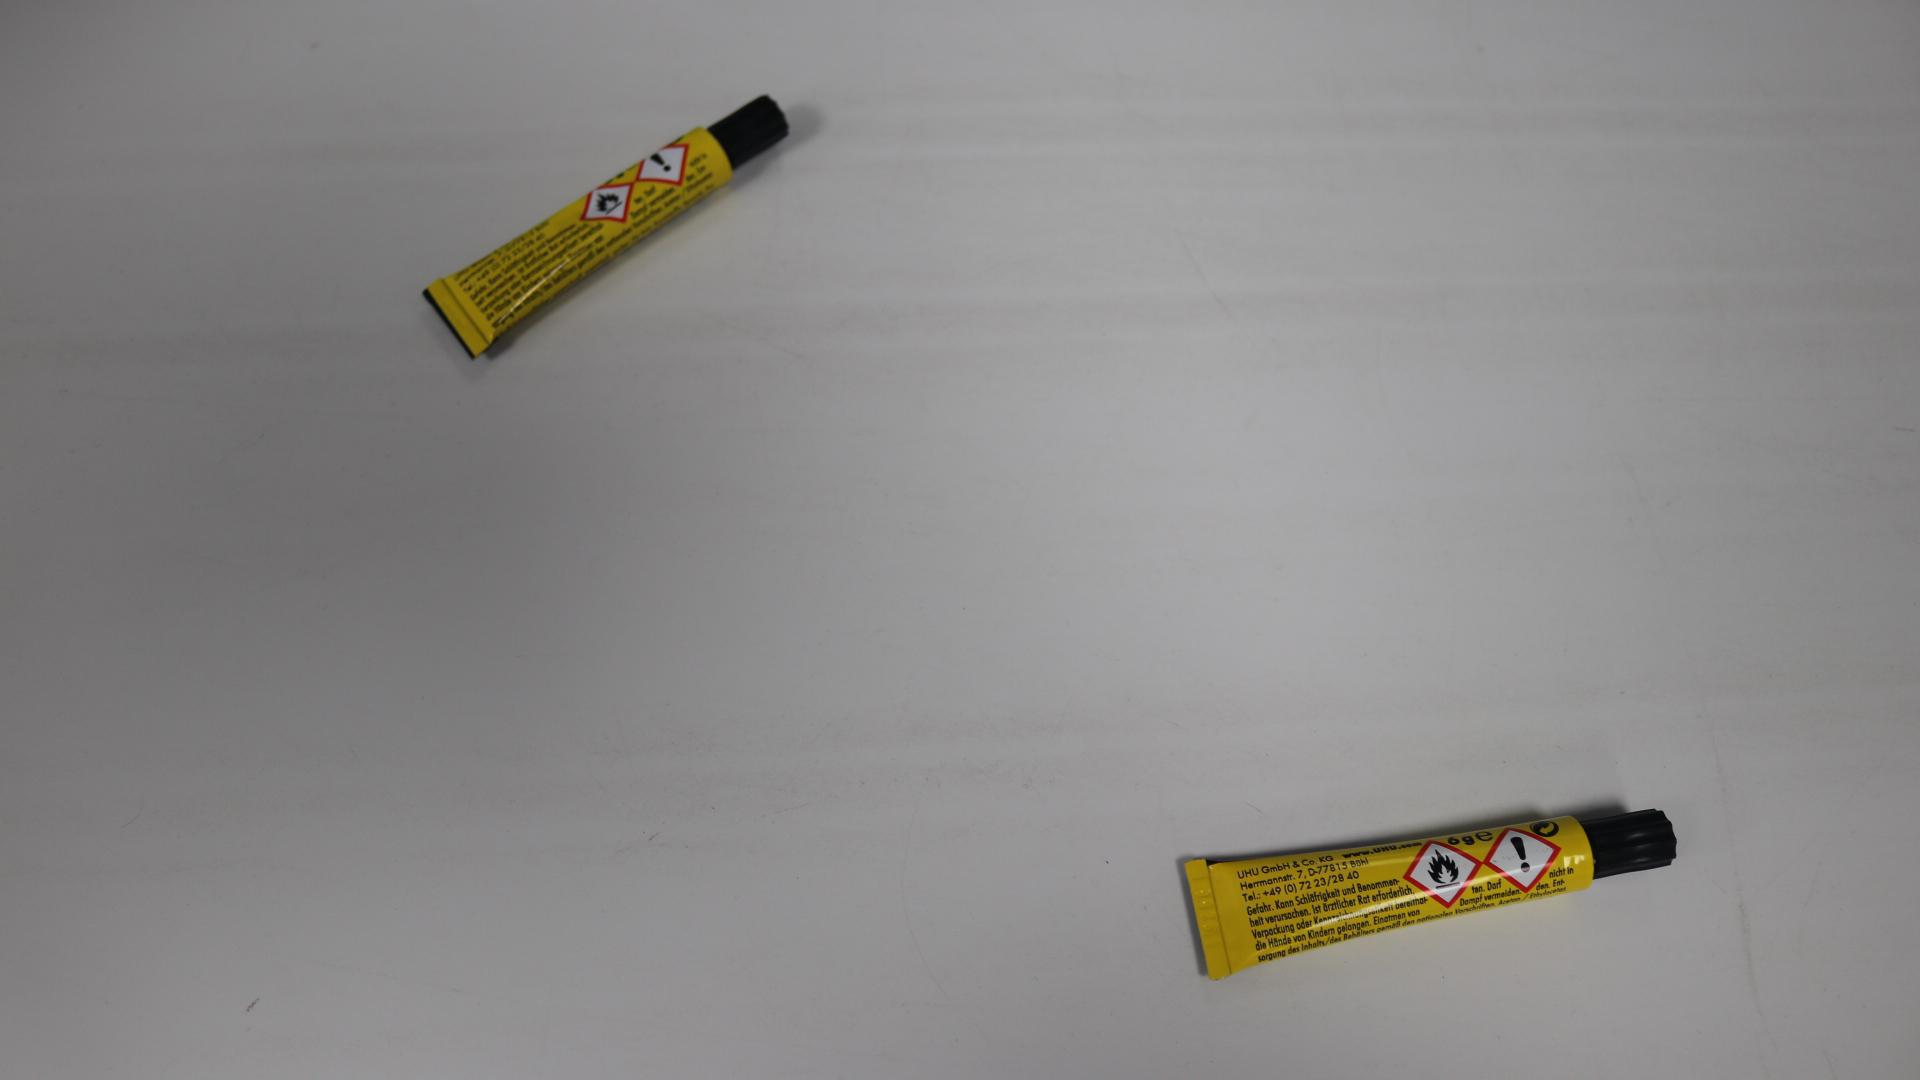Head: (1621, 837, 1638, 850), (746, 125, 753, 134)
Tail: (1200, 911, 1216, 932), (453, 316, 462, 326)
Tube: (424, 93, 791, 359), (1183, 809, 1678, 981)
